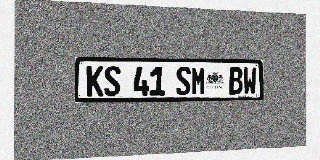1: (150, 66, 165, 96)
4: (133, 66, 149, 96)
B: (229, 67, 243, 95)
K: (87, 66, 103, 96)
M: (191, 67, 206, 95)
S: (104, 66, 120, 96), (176, 67, 191, 95)
W: (243, 67, 256, 95)
